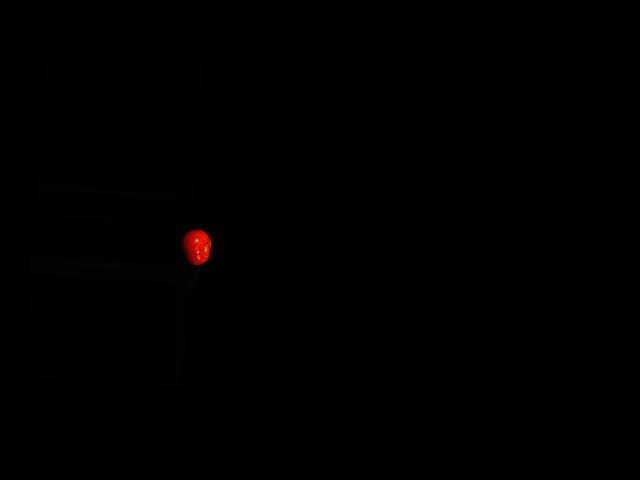tomato: (180, 227, 212, 265)
